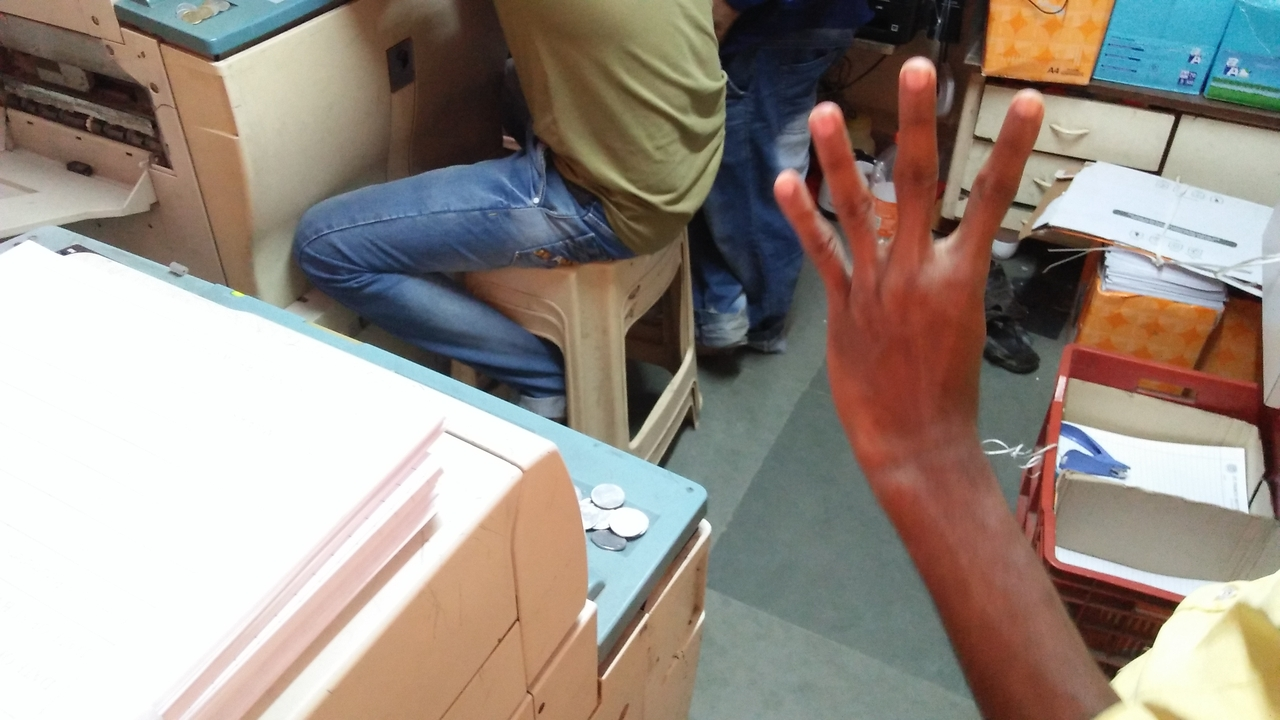fingertip: (806, 94, 860, 144), (1006, 78, 1056, 128), (766, 158, 818, 204), (896, 50, 942, 96)
